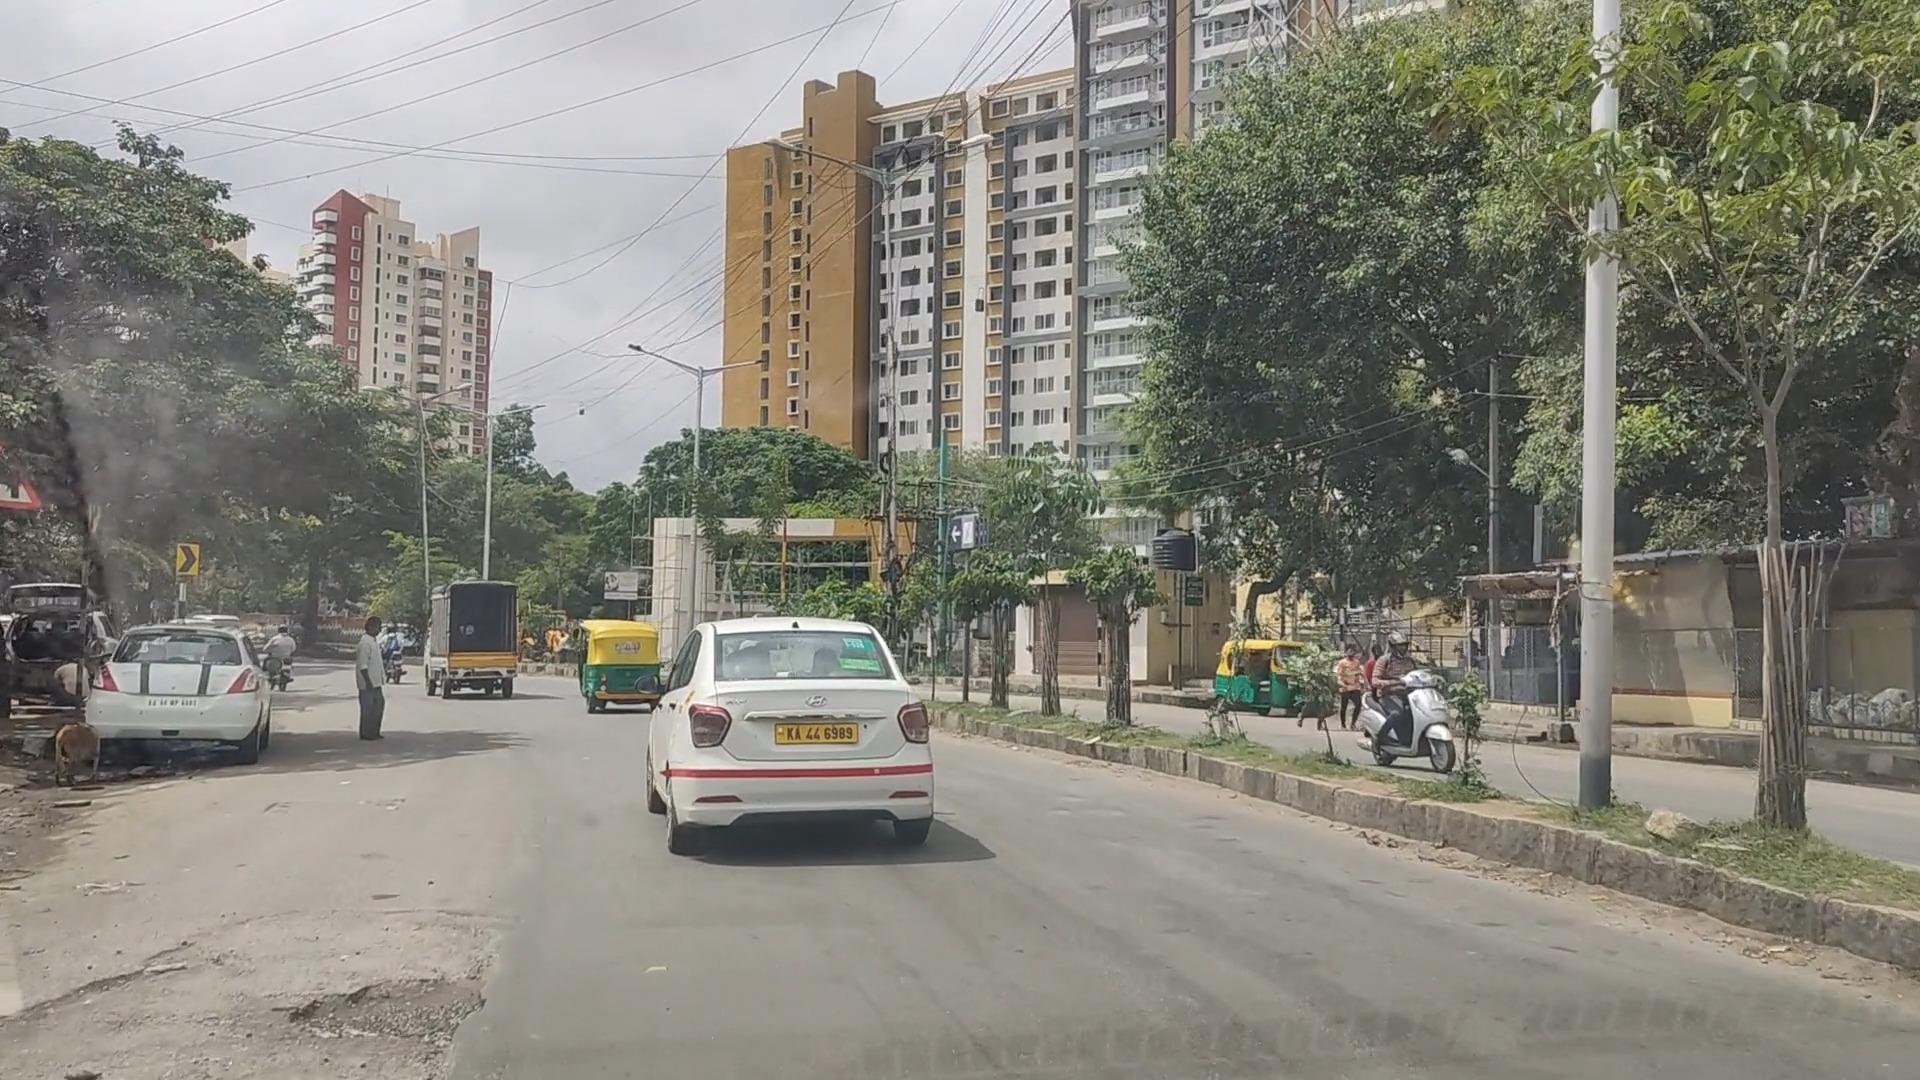LMV: (634, 630, 943, 864)
RoadDamages: (69, 901, 506, 1080)
